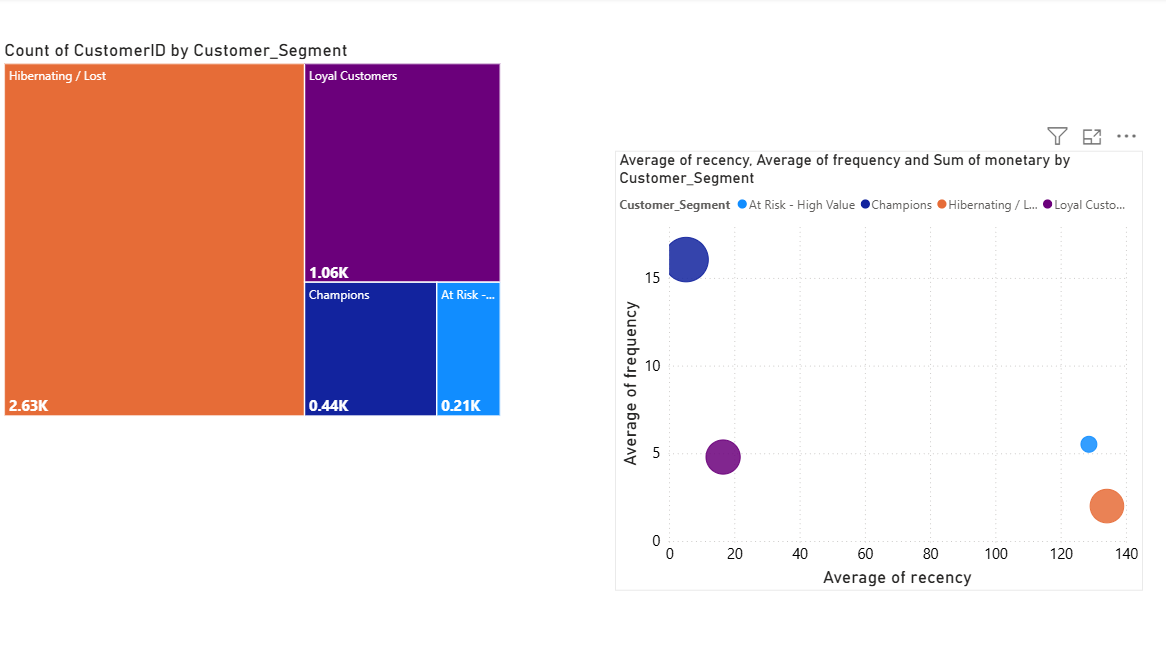

What the dashboard file says about the page in this screenshot:
{"tool":"powerbi","page":{"name":"RFM Performance","canvas":[1280,720],"ordinal":0},"visuals":[{"type":"treemap","fields":{"Group":["view_customer_rfm.Customer_Segment"],"Values":["CountNonNull(view_customer_rfm.CustomerID)"]},"box":[0,46.7,554.4,418.5],"z":0},{"type":"scatterChart","fields":{"X":["Avg(view_customer_rfm.recency)"],"Y":["Avg(view_customer_rfm.frequency)"],"Size":["Sum(view_customer_rfm.monetary)"],"Series":["view_customer_rfm.Customer_Segment"]},"box":[675.1,168.8,579.1,483],"z":1000}]}

Visuals, with their boxes in screenshot pixels (x1, y1, x2, y2), scaled from the page's 1280x720 canvas onto the 1166x653 screenshot:
treemap - view_customer_rfm.Customer_Segment x CountNonNull(view_customer_rfm.CustomerID): select_region(0, 42, 505, 422)
scatterChart - Avg(view_customer_rfm.recency) x Avg(view_customer_rfm.frequency): select_region(615, 153, 1142, 591)
